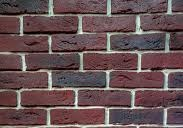brick: (108, 72, 163, 88), (23, 16, 77, 32), (110, 109, 164, 125), (79, 90, 131, 106), (51, 73, 106, 88), (82, 16, 136, 31), (111, 34, 165, 49), (1, 35, 48, 52), (51, 109, 104, 124), (51, 35, 106, 49), (19, 91, 74, 105), (83, 54, 137, 68), (136, 91, 183, 106), (53, 1, 107, 14), (26, 55, 79, 68), (140, 14, 182, 30), (1, 73, 48, 87), (1, 110, 47, 124), (1, 1, 49, 14), (111, 1, 167, 12), (141, 54, 183, 67), (1, 54, 22, 70), (1, 17, 20, 34), (166, 108, 183, 124), (1, 91, 16, 105), (170, 34, 183, 49), (168, 74, 183, 87), (172, 1, 182, 12)
